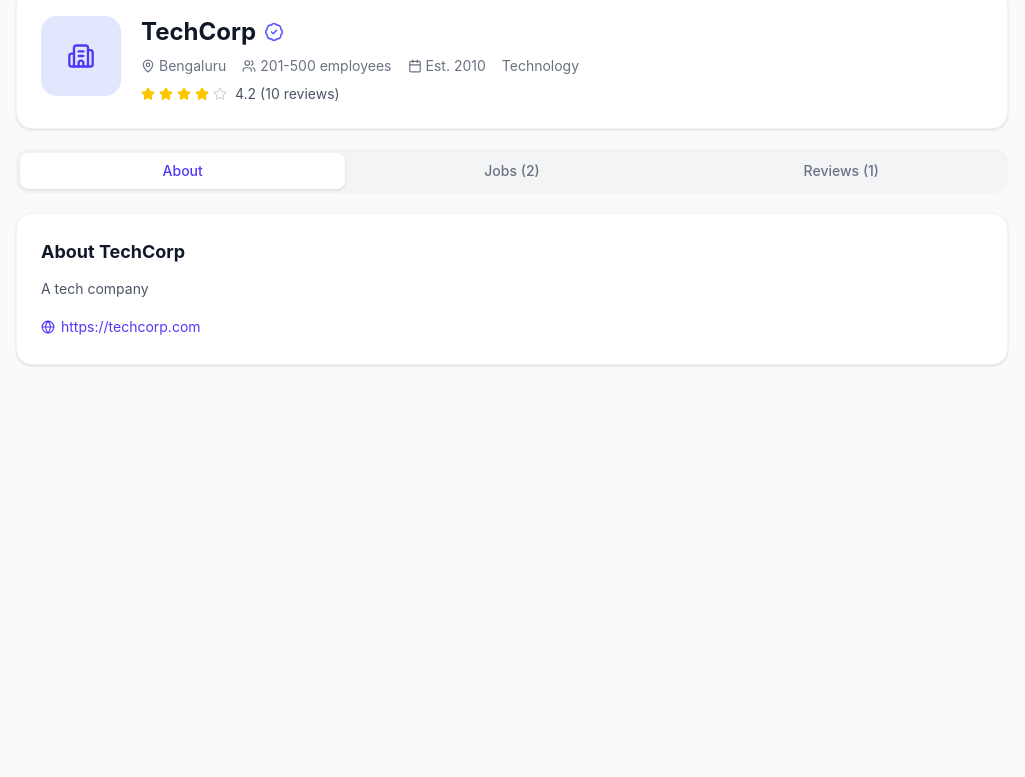
Test case: CompanyProfile — tabs › shows review form when Write a Review clicked
Expected: the heading "TechCorp" is shown, [141,16,256,48]
Click the button "reviews (1)": [841, 171] box [679,153,1004,189]
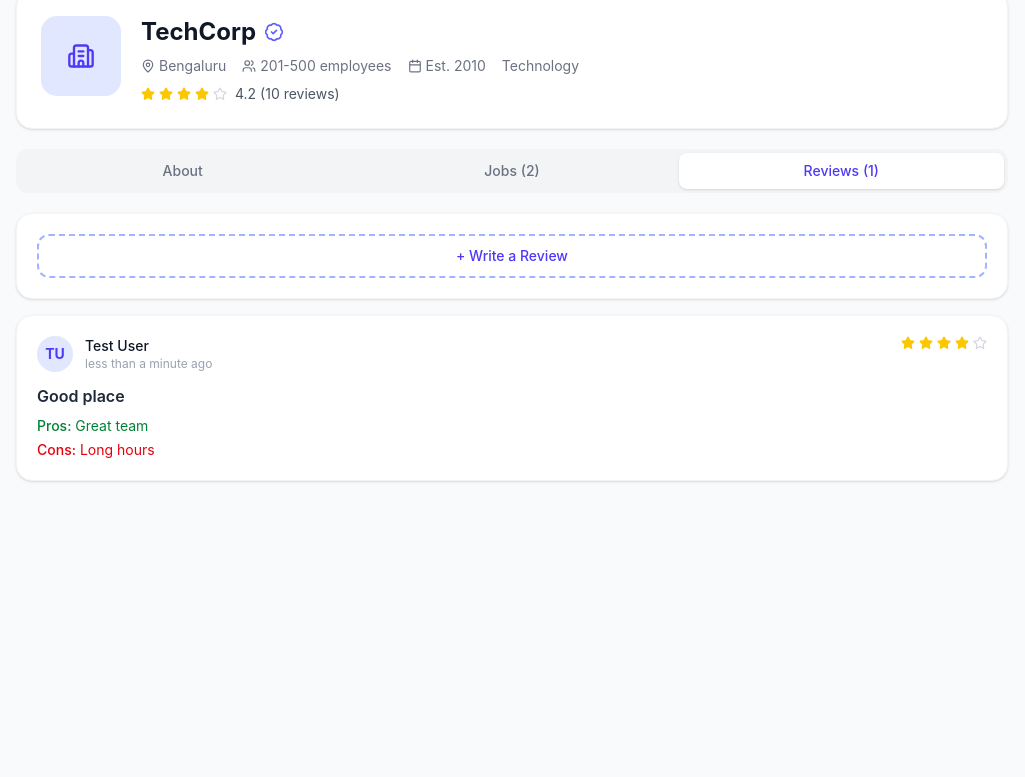
Click the button "+ Write a Review": [512, 256] box [37,234,987,278]
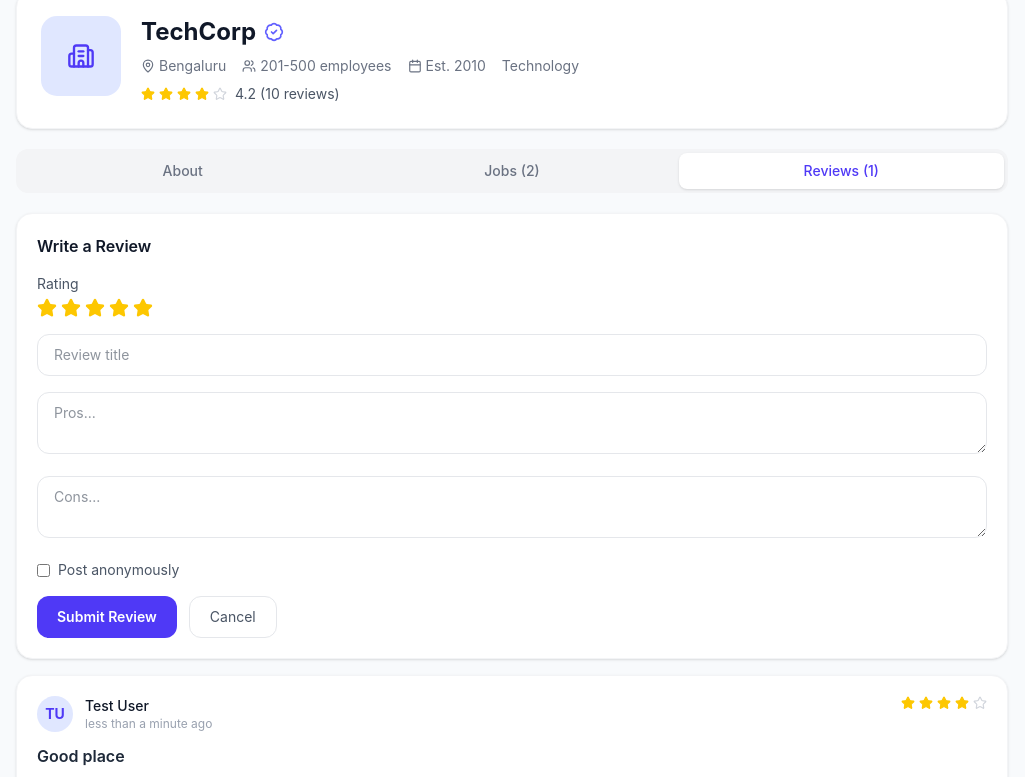
Expected: the heading "Write a Review" is shown, [37,236,151,256]
Expected: the field with placeholder "Review title" is shown, [37,334,987,376]
